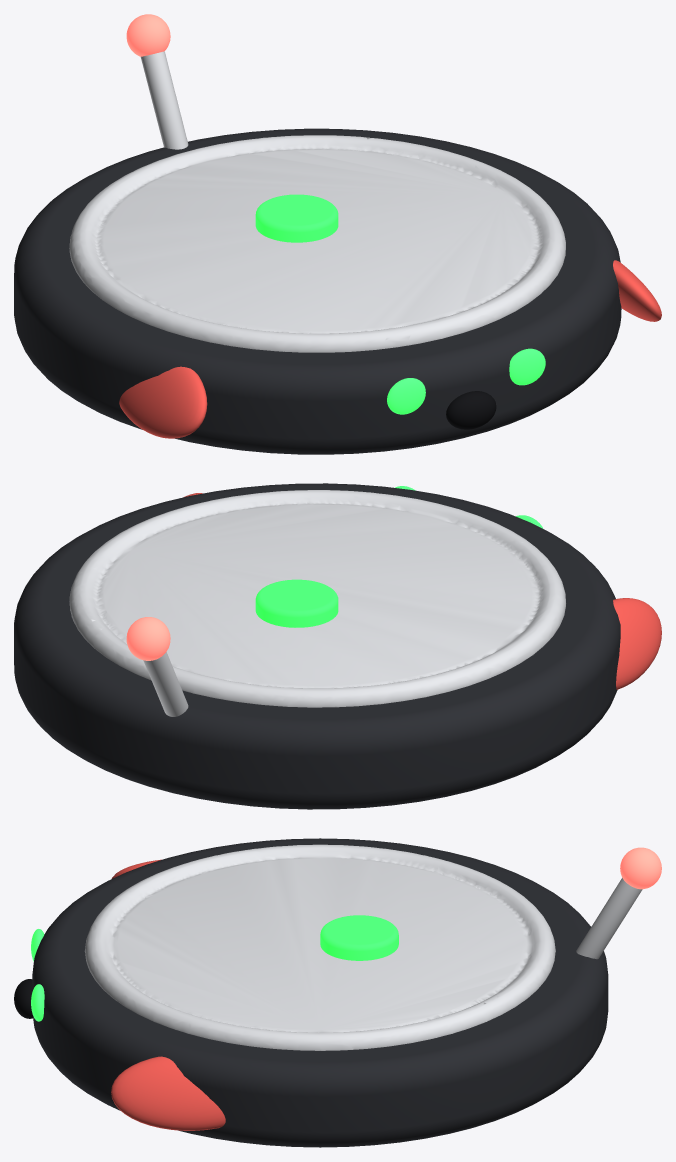
The model's file is roomba_dog.glb.
3 views of the same model, one above another, from view 1: azimuth 30°, elevation 25°; view 2: azimuth 150°, elevation 25°; view 3: azimuth 270°, elevation 25° (orthographic). The views are drawn at different scales.
Parts seen in each view (by area): view 1: Rim, Disc, FloppyEar_R, Button, TailMast, FloppyEar_L, Nose, TailTip, EyeGlow_R, EyeGlow_L; view 2: Rim, Disc, Button, FloppyEar_R, TailTip, TailMast; view 3: Rim, Disc, FloppyEar_L, Button, TailMast, TailTip, Nose.
Part boxes in pixels (x1,y1,x2,y2): Rim: [69, 135, 565, 352]; Disc: [14, 128, 621, 454]; FloppyEar_R: [119, 366, 207, 438]; Button: [255, 194, 338, 242]; TailMast: [140, 51, 188, 149]; FloppyEar_L: [613, 260, 661, 321]; Nose: [446, 391, 496, 429]; TailTip: [126, 14, 170, 56]; EyeGlow_R: [387, 378, 425, 414]; EyeGlow_L: [509, 348, 545, 385]; Rim: [69, 490, 565, 707]; Disc: [14, 483, 620, 809]; Button: [255, 579, 338, 627]; FloppyEar_R: [613, 598, 661, 689]; TailTip: [126, 617, 170, 660]; TailMast: [143, 652, 188, 716]; Rim: [84, 844, 555, 1050]; Disc: [32, 838, 608, 1147]; FloppyEar_L: [111, 1056, 225, 1130]; Button: [320, 915, 398, 960]; TailMast: [576, 878, 642, 959]; TailTip: [620, 847, 661, 889]; Nose: [14, 979, 33, 1018].
Bounding box in the file's own units: 0.44 × 0.156 × 0.495.
